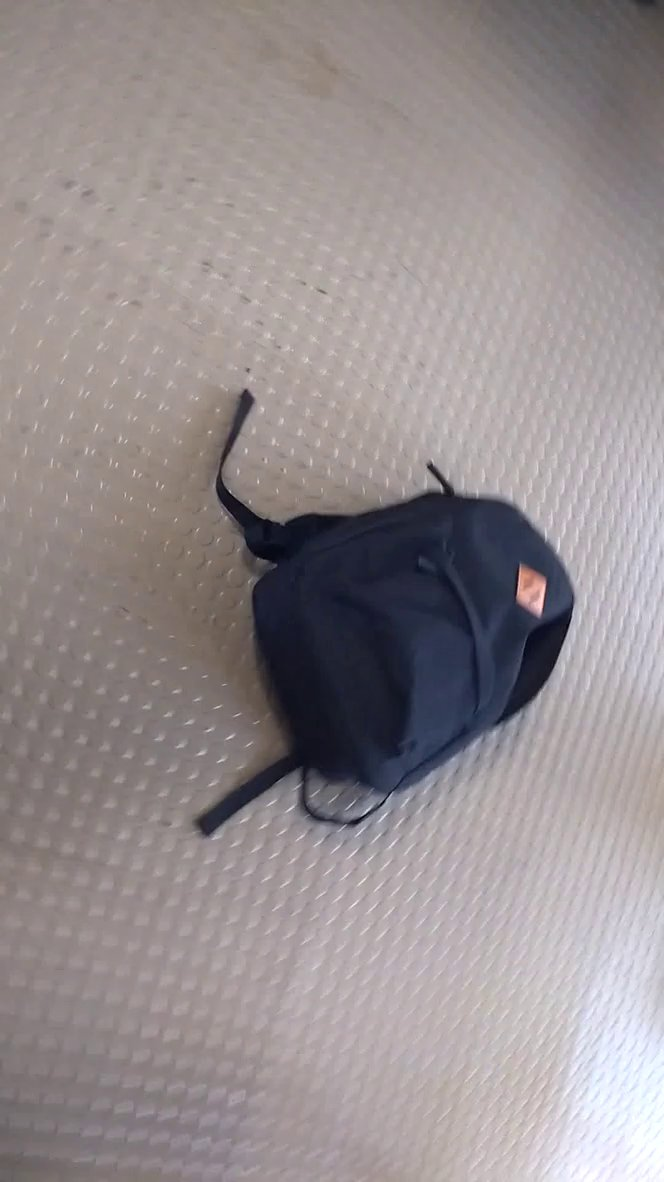bag: (184, 374, 586, 852)
